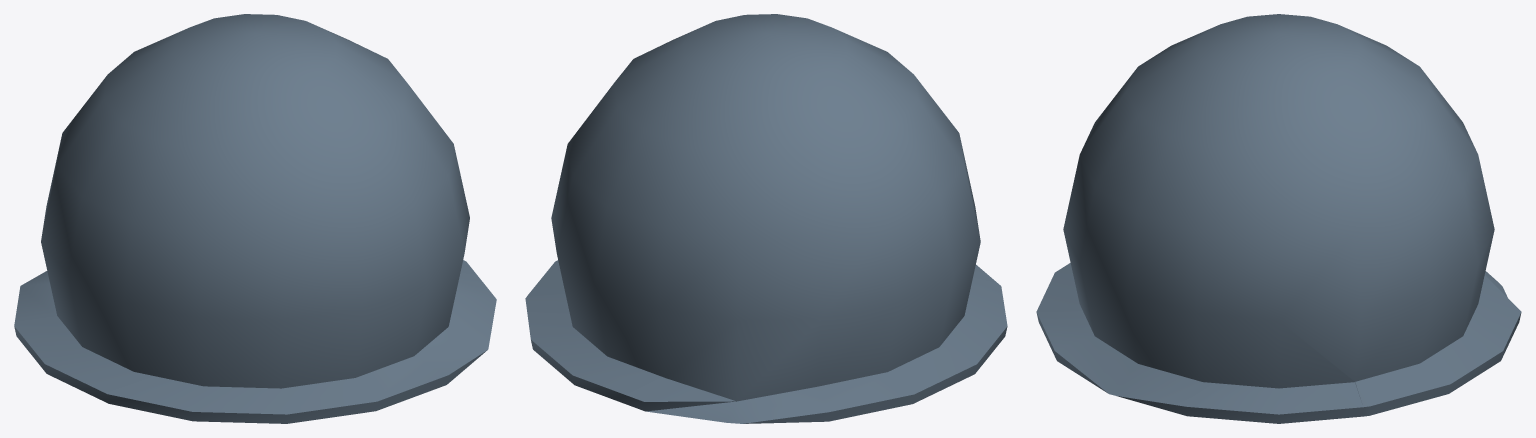
Rendered from 360 speaker.fbx.
3 views of the same model, side by side, from view 1: azimuth 30°, elevation 25°; view 2: azimuth 150°, elevation 25°; view 3: azimuth 270°, elevation 25° (orthographic).
Parts seen in each view (by area): view 1: Sphere; view 2: Sphere; view 3: Sphere.
Part boxes in pixels (bbox=[...]): Sphere: bbox=[14, 14, 496, 423]; Sphere: bbox=[525, 14, 1007, 423]; Sphere: bbox=[1036, 14, 1521, 423].
Bounding box in the file's own units: 225 × 148 × 225.
